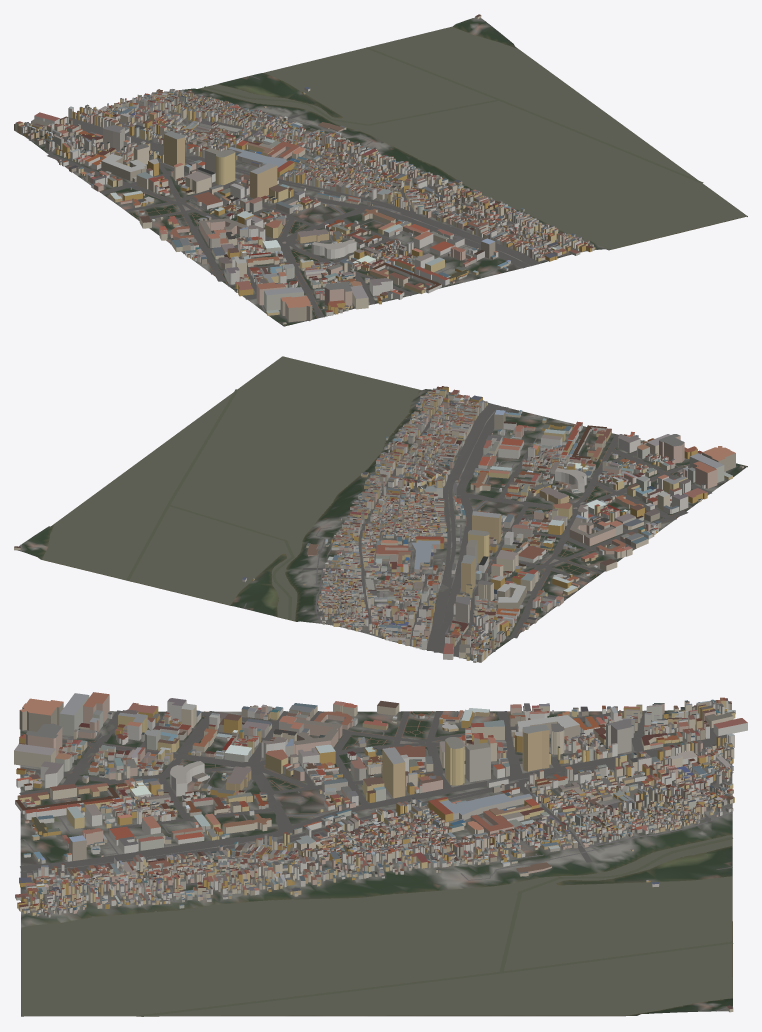
3 views of the same model, one above another, from view 1: azimuth 30°, elevation 25°; view 2: azimuth 150°, elevation 25°; view 3: azimuth 270°, elevation 25° (orthographic). The views are drawn at different scales.
Visible parts, largest first — view 1: buildings, water, ground, roads; view 2: buildings, water, ground, roads; view 3: buildings, water, ground, roads.
Boxes of the visible parts, <box> form: buildings: <box>14,14,595,324</box>; water: <box>199,26,746,249</box>; ground: <box>24,17,747,326</box>; roads: <box>29,18,580,325</box>; buildings: <box>14,386,743,662</box>; water: <box>41,356,558,620</box>; ground: <box>14,389,747,662</box>; roads: <box>20,392,746,656</box>; buildings: <box>14,692,747,1012</box>; water: <box>21,791,733,1016</box>; ground: <box>20,710,732,1016</box>; roads: <box>19,710,733,1011</box>.
Size of the model in its own units: 1420 by 94.63 by 1445.
